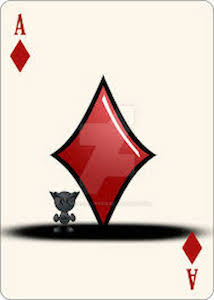AceOfDiamonds: (2, 1, 214, 300)
